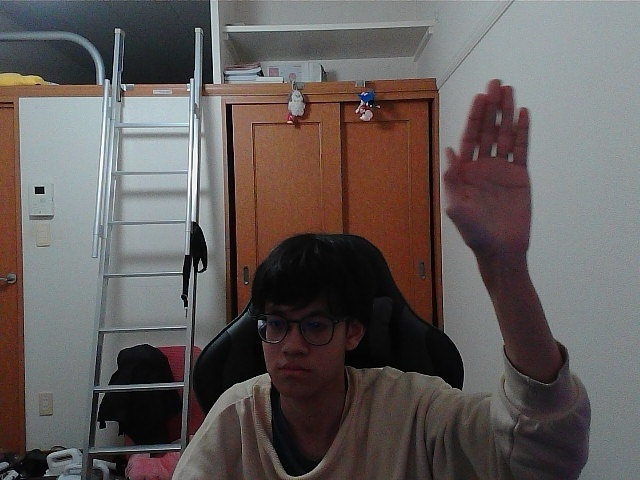open_palm: (449, 87, 523, 252)
